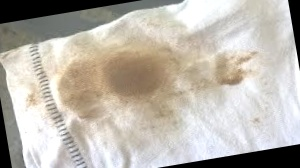earth: (57, 46, 172, 115), (213, 50, 248, 86)
